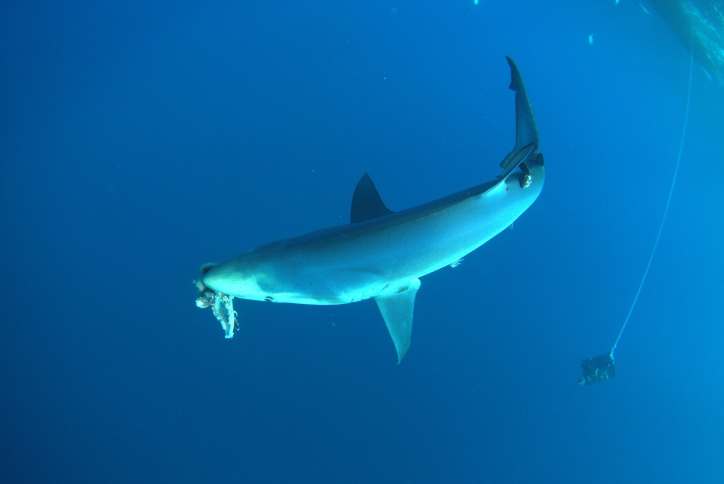Azul: (168, 50, 550, 364)
